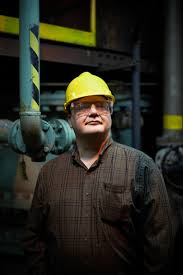Person_wearing_helmet: (57, 64, 119, 112)
